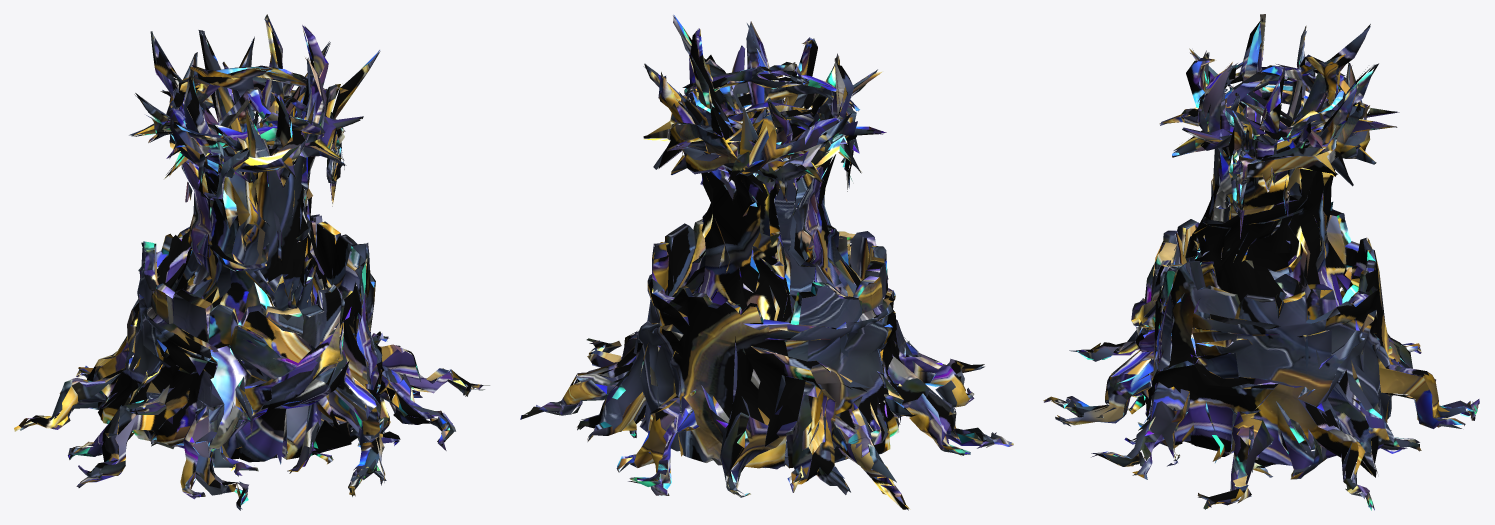
File: tower_sapling_3d_LOD1.fbx
3 renders of one model, left to right at view 1: azimuth 30°, elevation 25°; view 2: azimuth 150°, elevation 25°; view 3: azimuth 270°, elevation 25°, orthographic. The views are drawn at different scales.
Parts seen in each view (by area): view 1: Mesh1.0; view 2: Mesh1.0; view 3: Mesh1.0.
Boxes of the visible parts, bbox=[...] form: Mesh1.0: bbox=[14, 14, 489, 510]; Mesh1.0: bbox=[520, 14, 1013, 510]; Mesh1.0: bbox=[1043, 14, 1480, 510].
Bounding box in the file's own units: 143 × 125 × 130.
